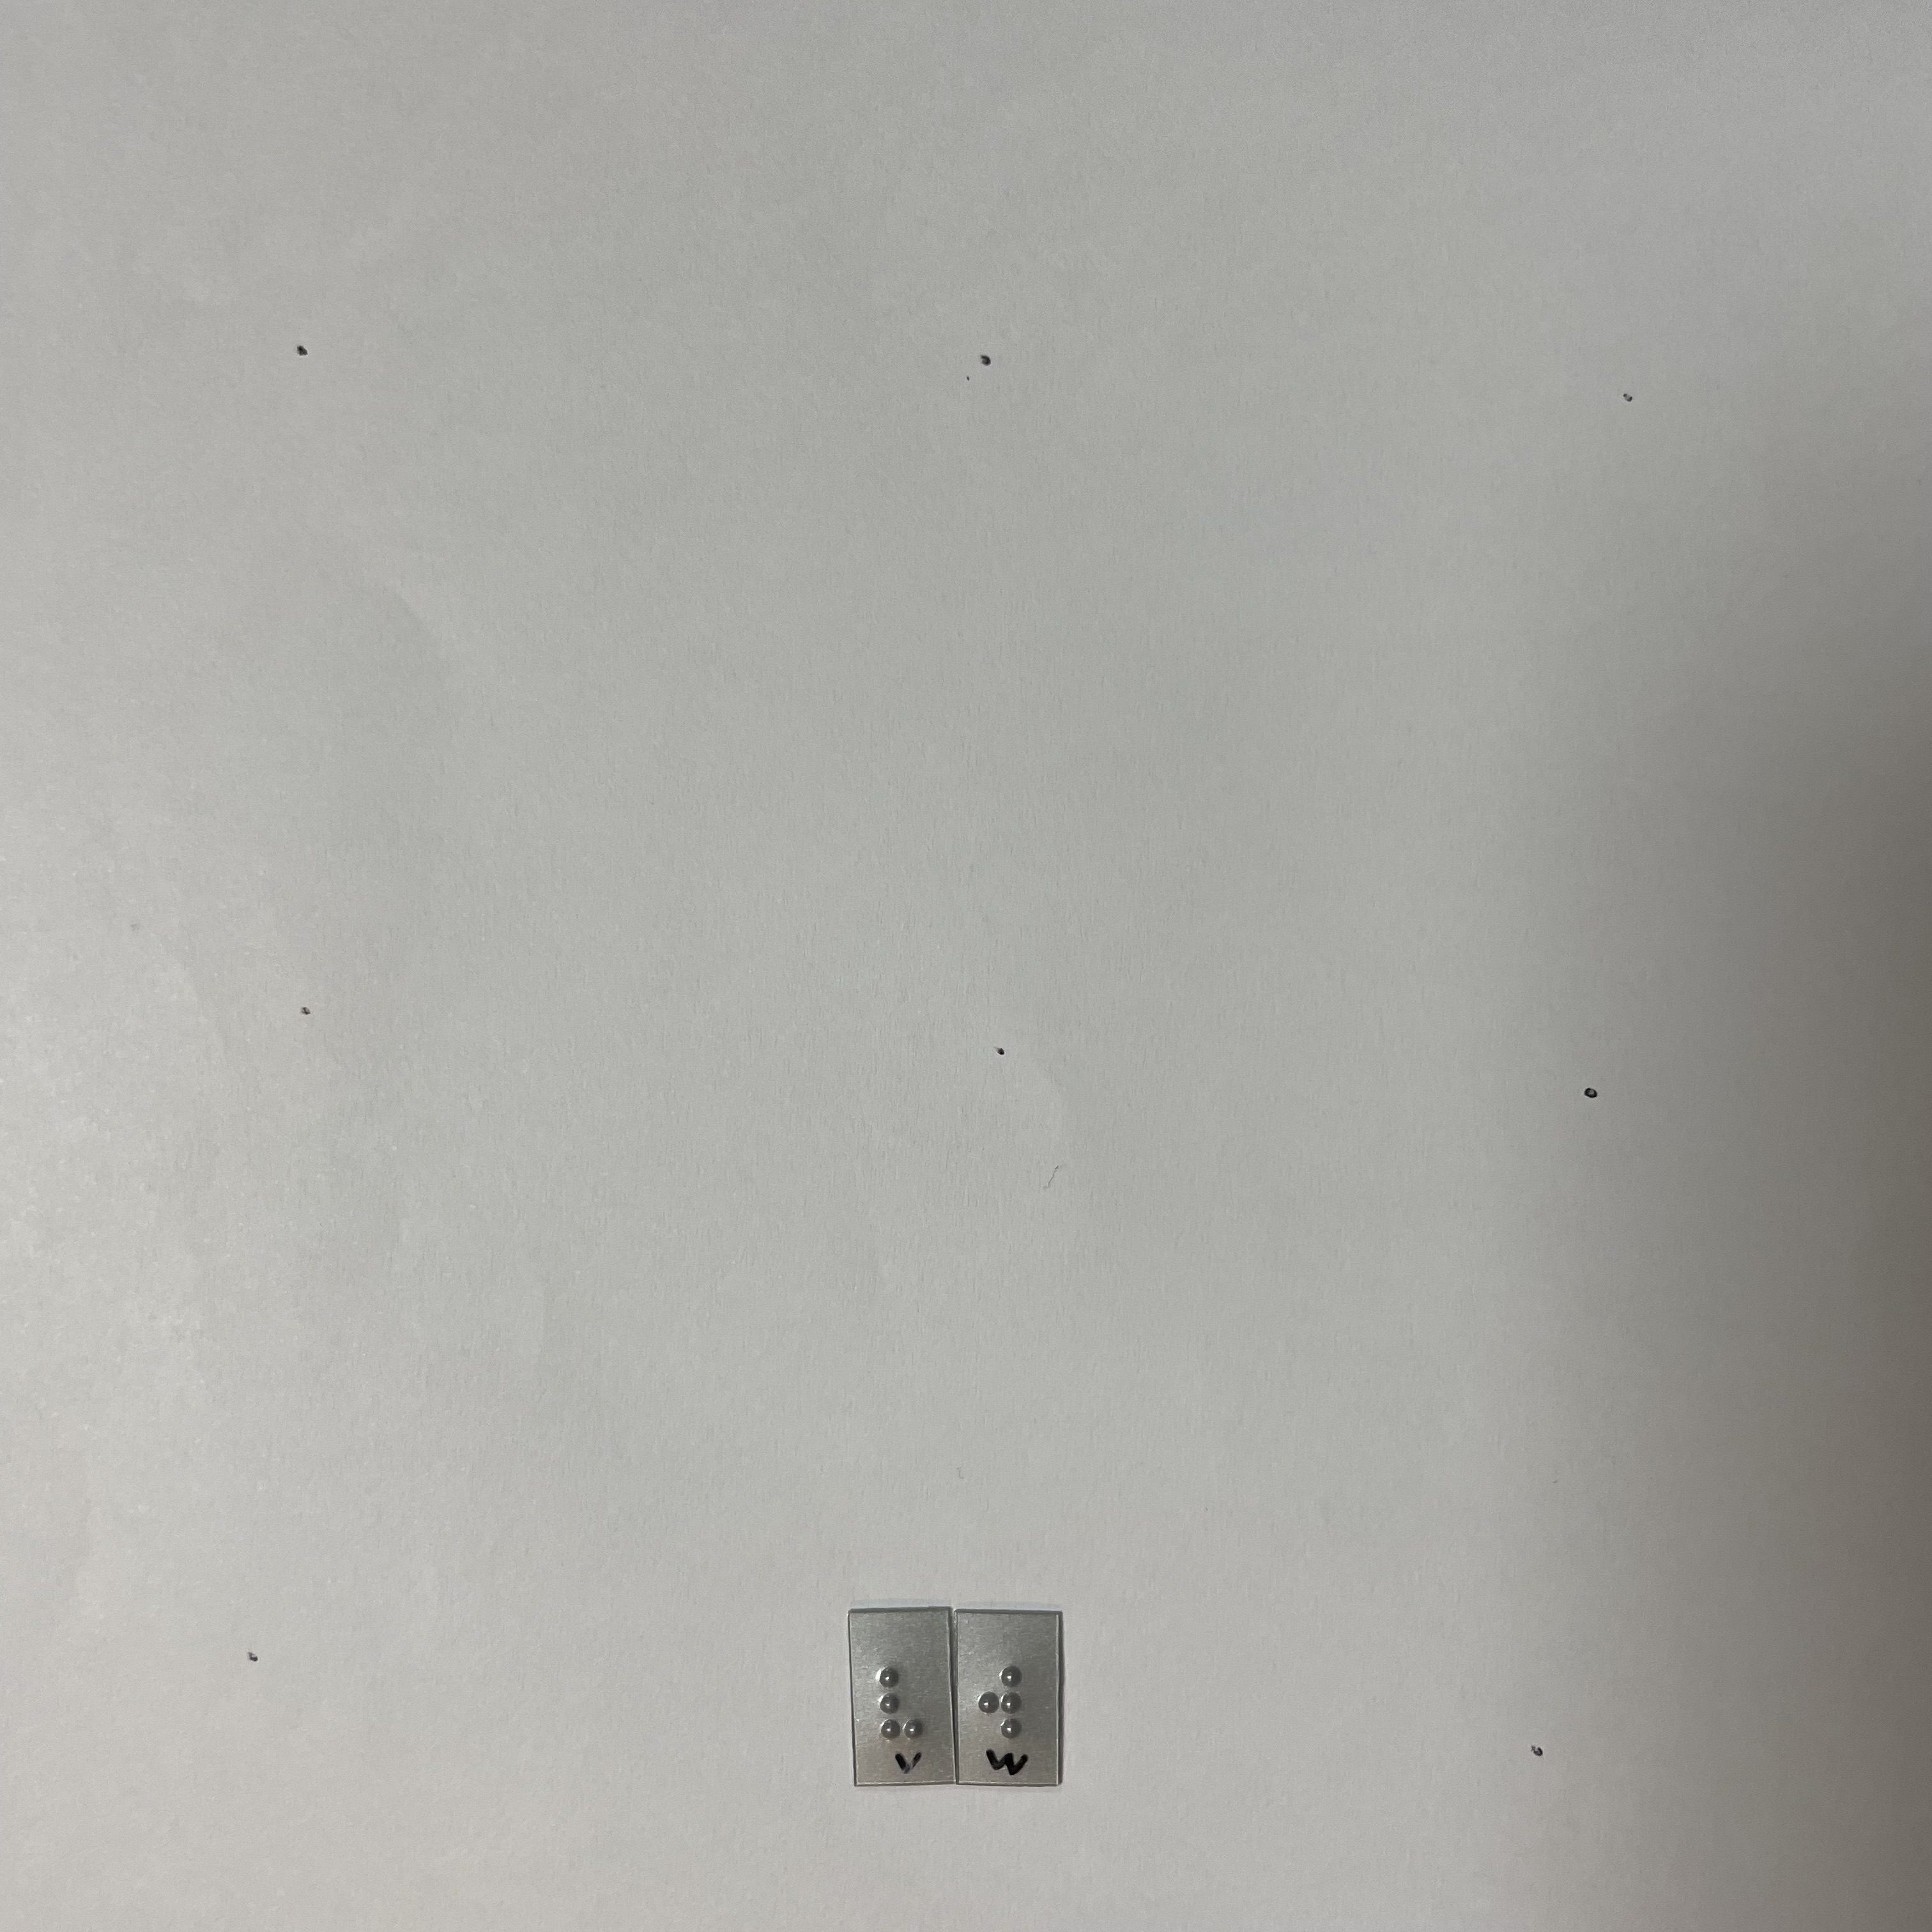v: (866, 1654, 935, 1754)
w: (970, 1654, 1041, 1747)
